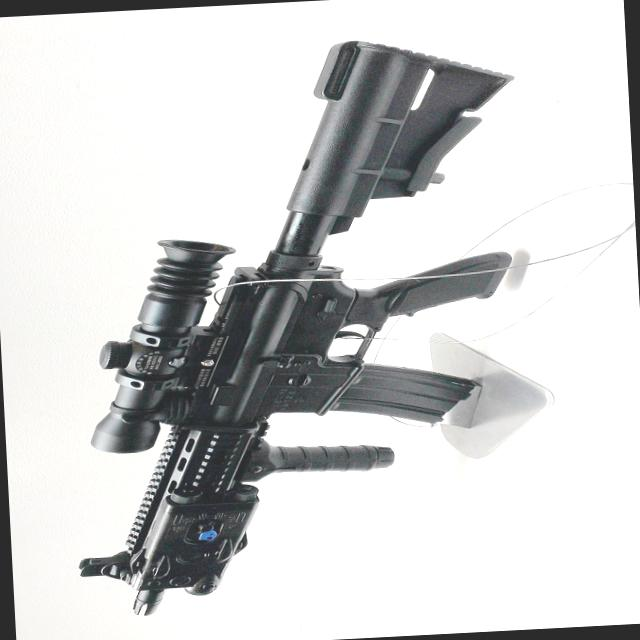long weapon: (73, 43, 520, 613)
